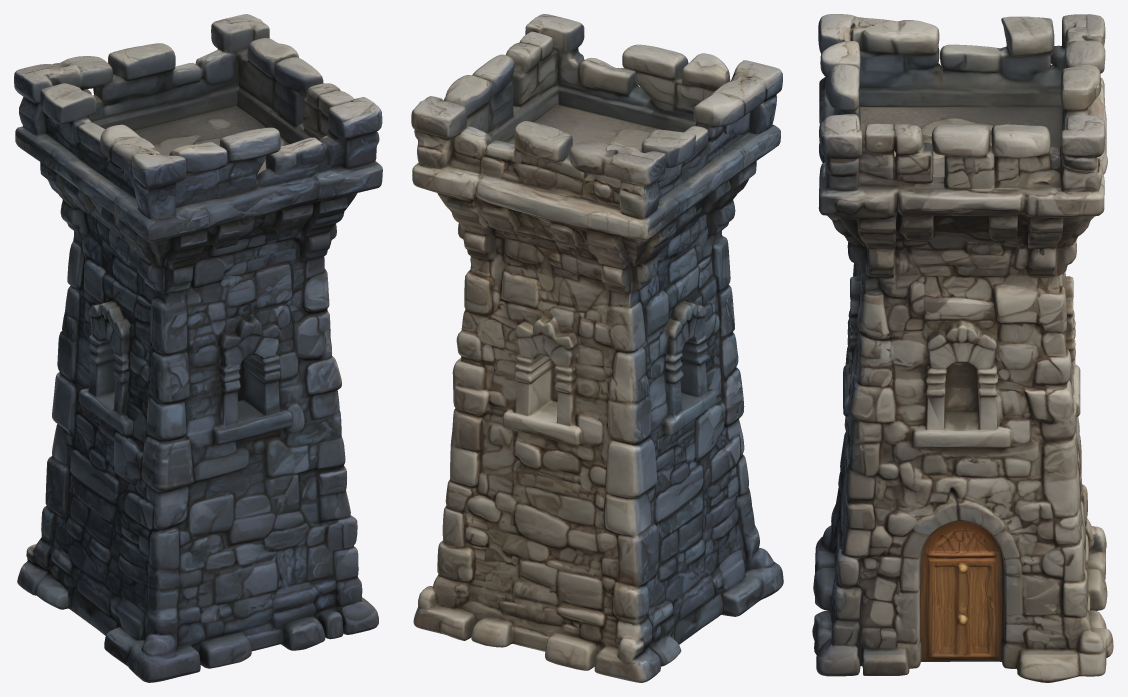
File: city-guard-tower.glb
The picture shows the model from 3 angles, left to right: view 1: azimuth 30°, elevation 25°; view 2: azimuth 150°, elevation 25°; view 3: azimuth 270°, elevation 25°; orthographic projection. The views are drawn at different scales.
Parts seen in each view (by area): view 1: tripo_node_8c18f593-e27d-4c94-85b5-845d8a787055; view 2: tripo_node_8c18f593-e27d-4c94-85b5-845d8a787055; view 3: tripo_node_8c18f593-e27d-4c94-85b5-845d8a787055.
Boxes of the visible parts, bbox=[...] form: tripo_node_8c18f593-e27d-4c94-85b5-845d8a787055: bbox=[14, 14, 382, 682]; tripo_node_8c18f593-e27d-4c94-85b5-845d8a787055: bbox=[411, 14, 783, 682]; tripo_node_8c18f593-e27d-4c94-85b5-845d8a787055: bbox=[812, 14, 1113, 682].
Size of the model in its own units: 4.91 by 10 by 4.97.
Materials: 1 (1 with a texture image).
